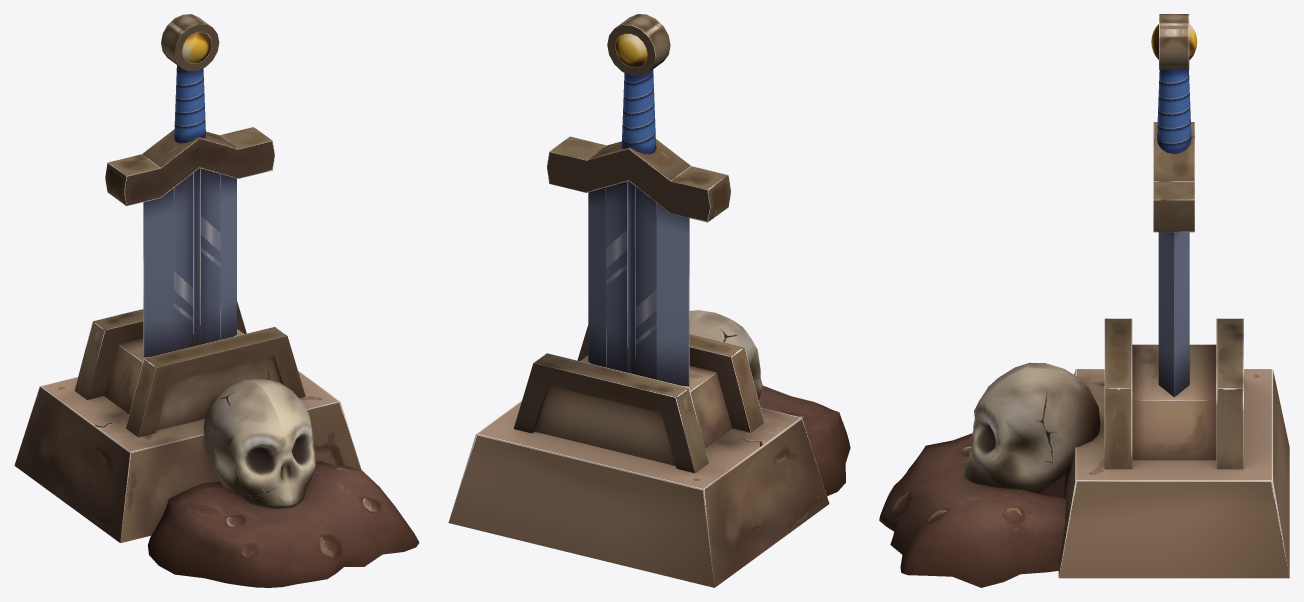
Rendered from Gravestone.fbx.
3 views of the same model, side by side, from view 1: azimuth 30°, elevation 25°; view 2: azimuth 150°, elevation 25°; view 3: azimuth 270°, elevation 25° (orthographic). The views are drawn at different scales.
Visible parts, largest first — view 1: Gravestone; view 2: Gravestone; view 3: Gravestone.
Part boxes in pixels (left/top/right/bottom): Gravestone: left=14, top=14, right=419, bottom=587; Gravestone: left=448, top=14, right=850, bottom=587; Gravestone: left=879, top=14, right=1289, bottom=587.
Size of the model in its own units: 1.98 by 3.59 by 2.63.
